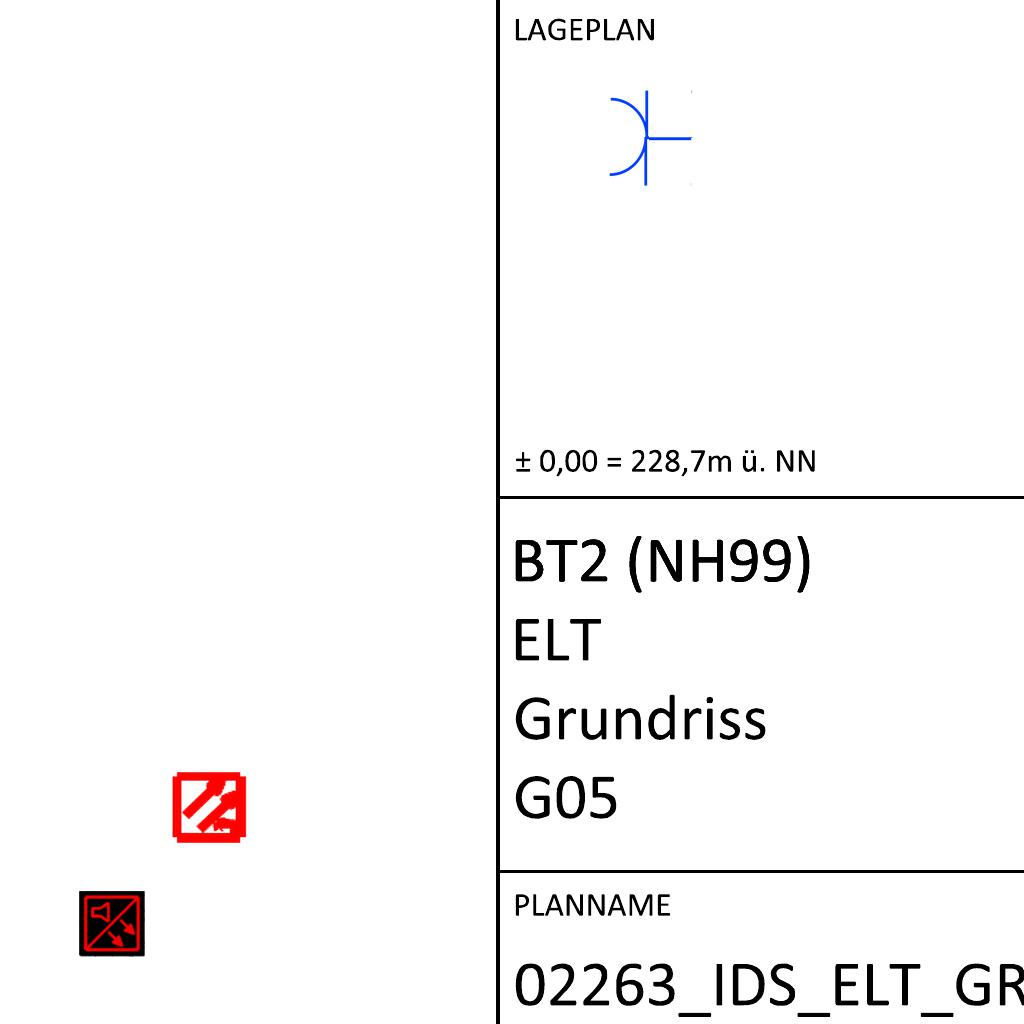OKW_Multisensormelder_(Kombination_optischer_Rauch-Kahlenmonoxid_Waerme-Melder): (79, 891, 145, 957)
OT_Multisensormelder_(Kombination_RMO_WMD): (155, 751, 268, 864)
Schukosteckdose_einfach: (604, 86, 694, 189)
